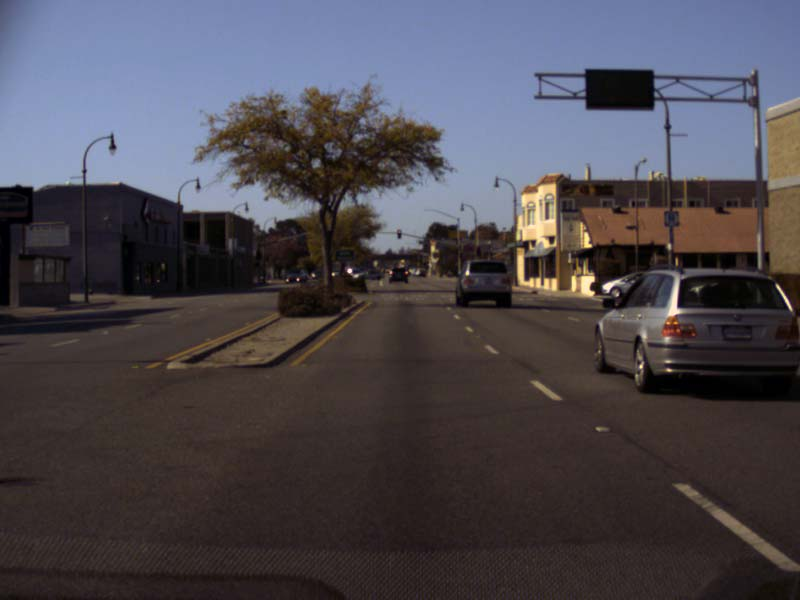Red: (397, 229, 401, 239)
